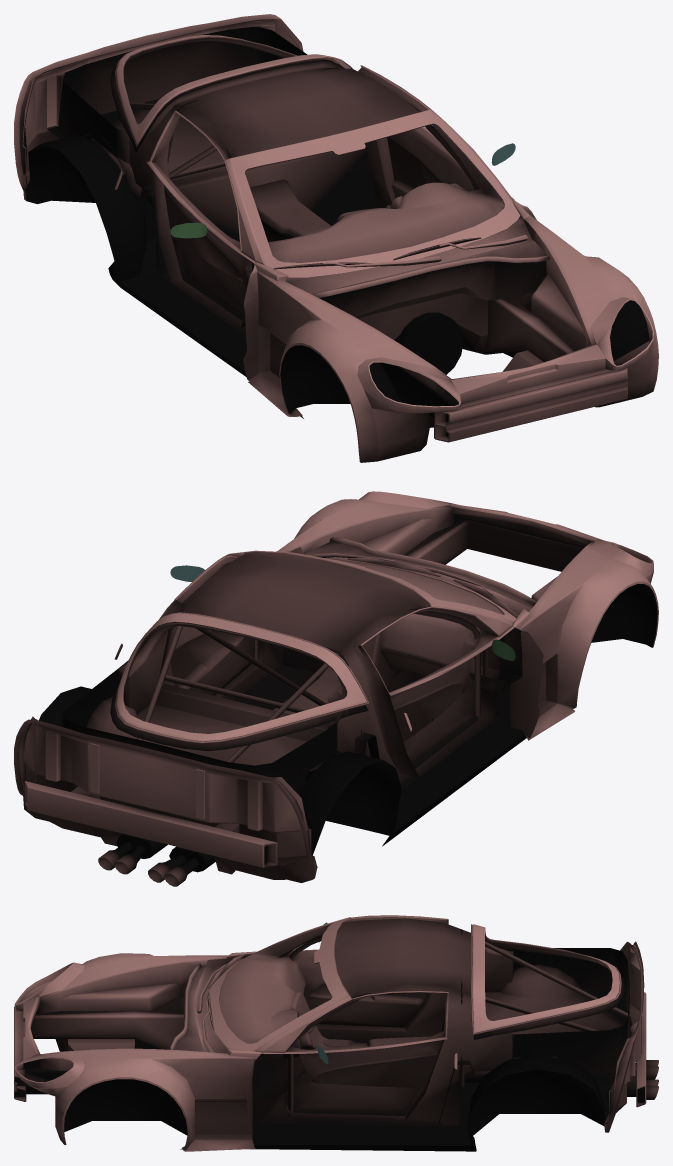
Rendered from Zr1_Chassis_Trim.fbx.
3 views of the same model, one above another, from view 1: azimuth 30°, elevation 25°; view 2: azimuth 150°, elevation 25°; view 3: azimuth 270°, elevation 25° (orthographic). The views are drawn at different scales.
Parts seen in each view (by area): view 1: Zr1_Chassis_Trim; view 2: Zr1_Chassis_Trim; view 3: Zr1_Chassis_Trim.
Boxes of the visible parts, x1,y1,x2,y2 form: Zr1_Chassis_Trim: (14, 14, 658, 462); Zr1_Chassis_Trim: (14, 491, 658, 886); Zr1_Chassis_Trim: (14, 915, 658, 1151).
Bounding box in the file's own units: 208 × 108 × 418.
